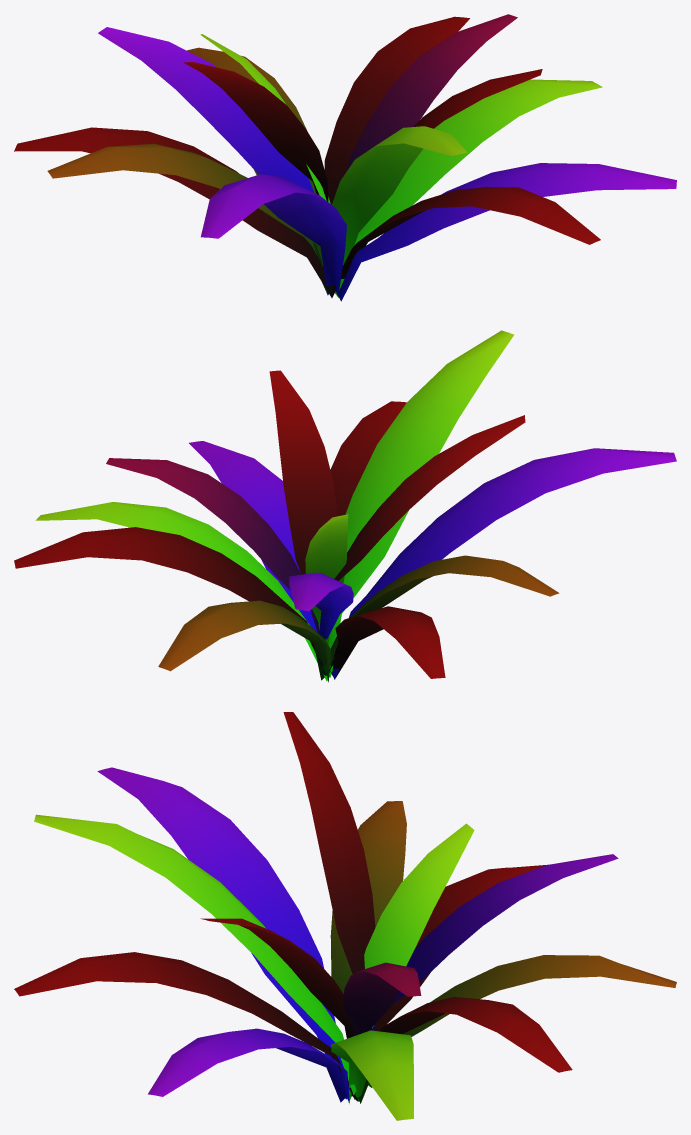
The model's file is Pink_cordyline_var4.fbx.
3 renders of one model, top to bottom at view 1: azimuth 30°, elevation 25°; view 2: azimuth 150°, elevation 25°; view 3: azimuth 270°, elevation 25°, orthographic. The views are drawn at different scales.
Visible parts, largest first — view 1: Pink_Cordyline_var4_LOD0; view 2: Pink_Cordyline_var4_LOD0; view 3: Pink_Cordyline_var4_LOD0.
Part boxes in pixels (x1,y1,x2,y2): Pink_Cordyline_var4_LOD0: (14, 14, 676, 301); Pink_Cordyline_var4_LOD0: (14, 330, 676, 682); Pink_Cordyline_var4_LOD0: (14, 712, 676, 1120).
Size of what is drawn, in the model's own units: 1.04 by 0.5433 by 1.07.
